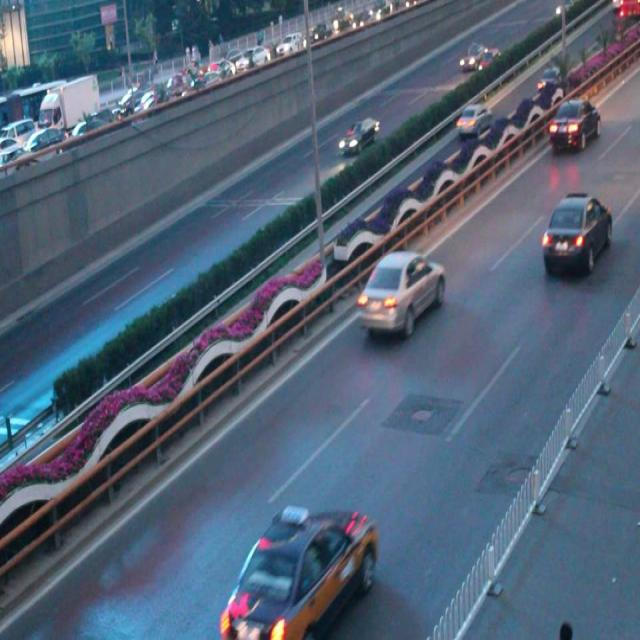car: (223, 505, 380, 640), (355, 250, 445, 335), (540, 194, 612, 277), (547, 97, 599, 153), (337, 117, 379, 153), (456, 101, 492, 136)
